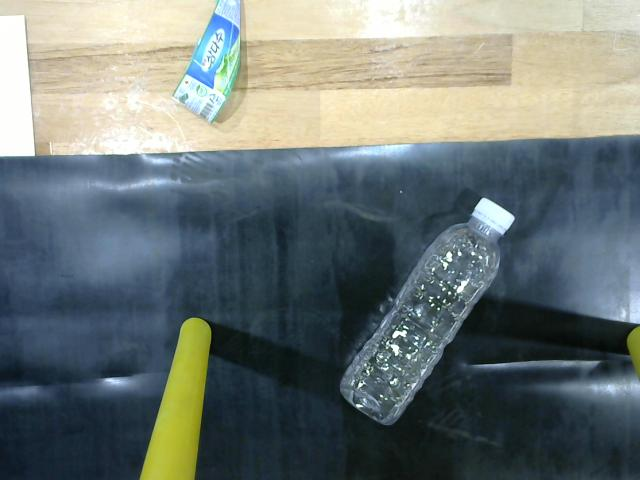bottle: (333, 189, 524, 430)
